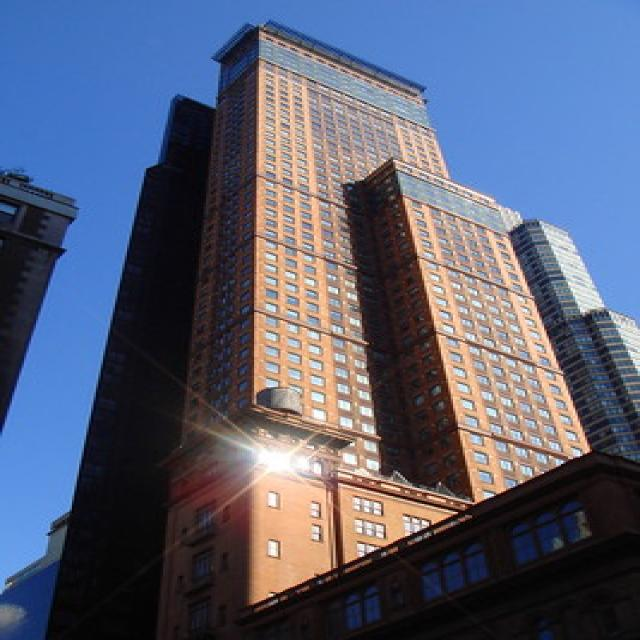building: (62, 16, 626, 635)
